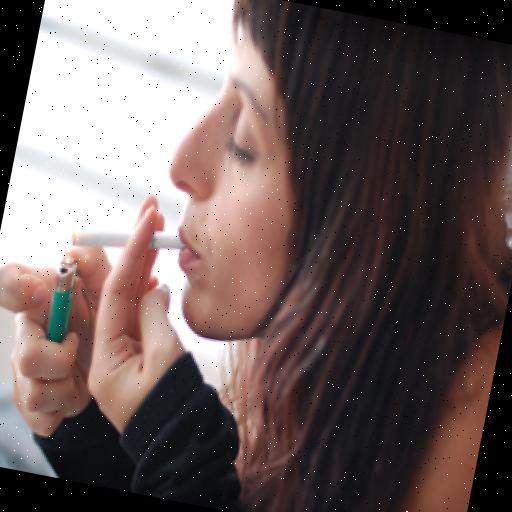terdeteksi merokok: (15, 112, 224, 375)
